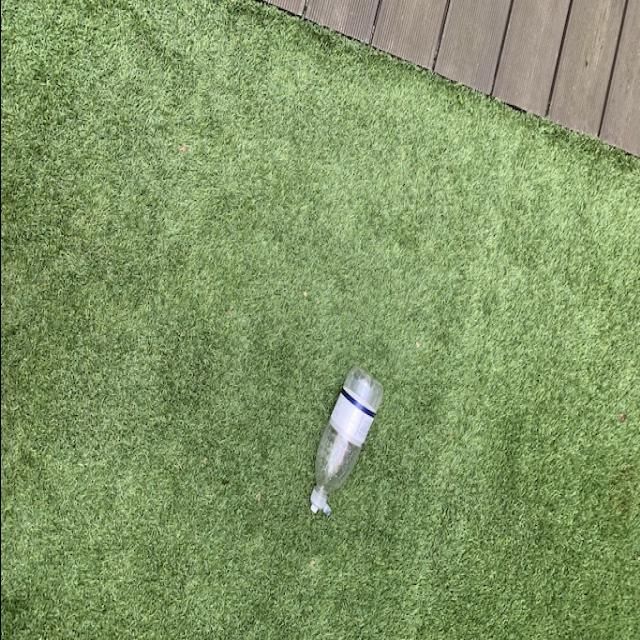PET: (304, 364, 384, 522)
